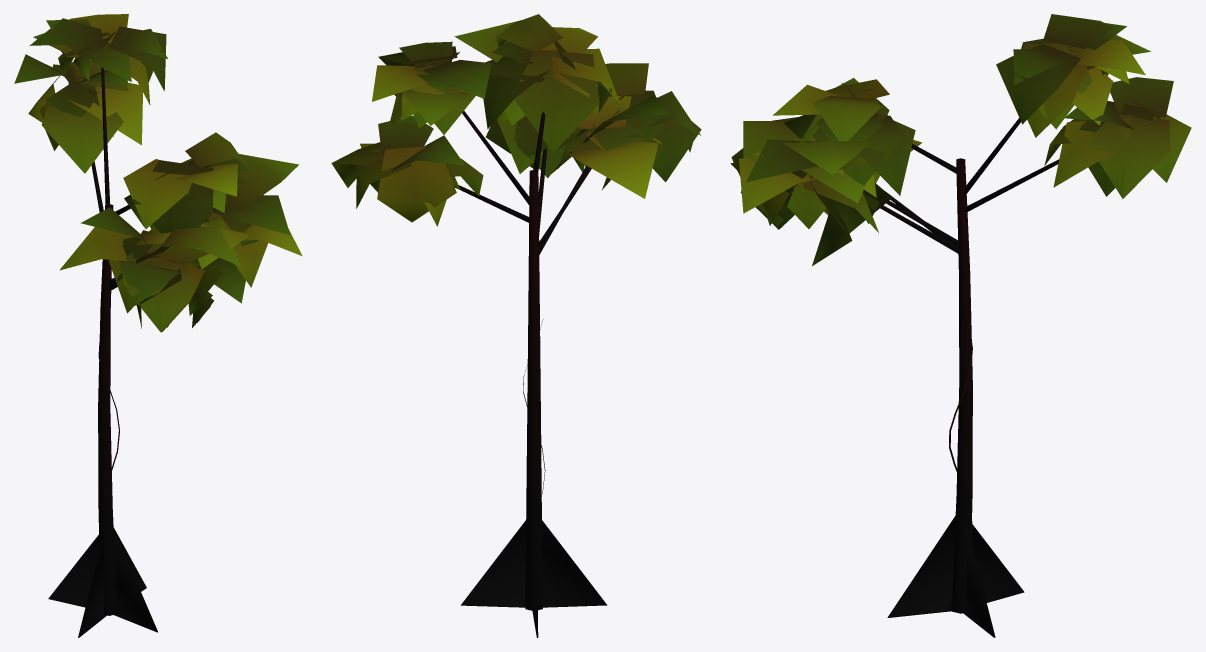
The model's file is patch_grassfield_far.glb.
3 renders of one model, left to right at view 1: azimuth 30°, elevation 25°; view 2: azimuth 150°, elevation 25°; view 3: azimuth 270°, elevation 25°, orthographic. The views are drawn at different scales.
Parts seen in each view (by area): view 1: patch_grassfield_far; view 2: patch_grassfield_far; view 3: patch_grassfield_far.
Boxes of the visible parts, x1,y1,x2,y2 form: patch_grassfield_far: (14,14,302,637); patch_grassfield_far: (331,14,701,637); patch_grassfield_far: (730,14,1191,637).
Size of the model in its own units: 5.13 by 12.59 by 8.86.
Materials: 1 (1 with a texture image).
